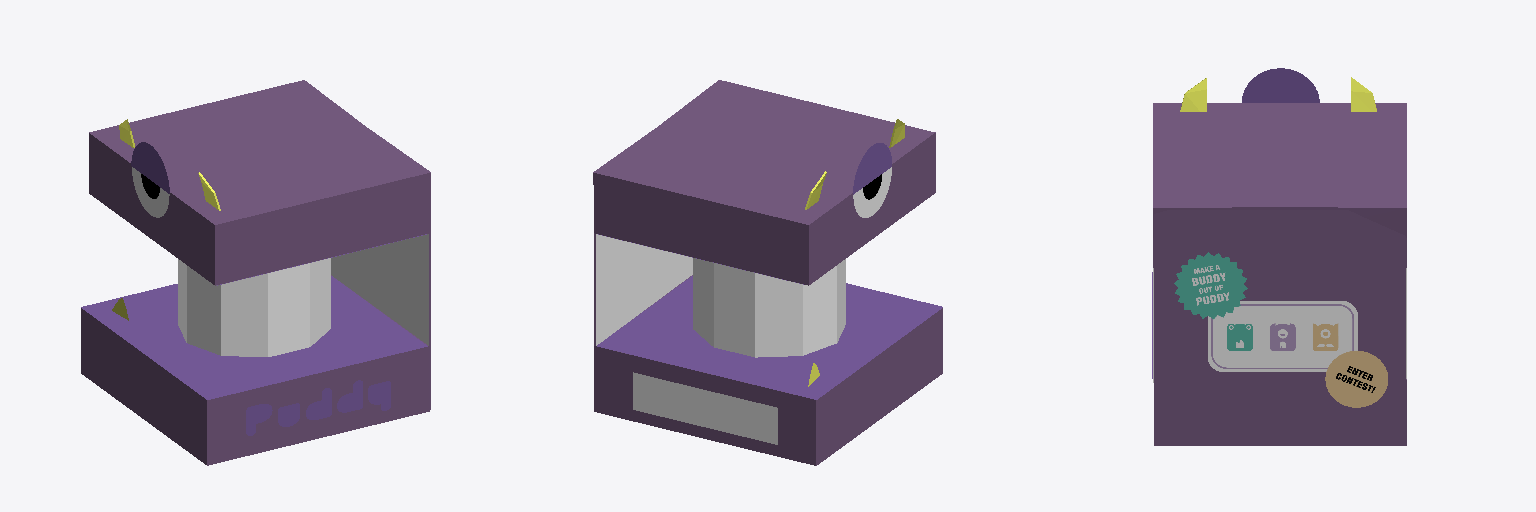
The picture shows the model from 3 angles: view 1: azimuth 30°, elevation 25°; view 2: azimuth 150°, elevation 25°; view 3: azimuth 270°, elevation 25°; orthographic projection.
Visible parts, largest first — view 1: 011_Box_-_baked, 014_Box_1, 001_Image_Plane_5, 010_Cylinder_-_baked, 002_Image_Plane_4, 013_Image_Plane_1, 009_Image_Plane, 006_Merged_Objects; view 2: 011_Box_-_baked, 014_Box_1, 001_Image_Plane_5, 010_Cylinder_-_baked, 002_Image_Plane_4, 012_Image_Plane_2, 009_Image_Plane, 006_Merged_Objects; view 3: 008_Box_6, 011_Box_-_baked, 003_Image_Plane_3, 009_Image_Plane, 006_Merged_Objects.
Part boxes in pixels (left/top/right/bottom): 011_Box_-_baked: left=89, top=80, right=430, bottom=285; 014_Box_1: left=81, top=275, right=429, bottom=465; 001_Image_Plane_5: left=81, top=276, right=427, bottom=399; 010_Cylinder_-_baked: left=178, top=258, right=330, bottom=356; 002_Image_Plane_4: left=331, top=234, right=428, bottom=345; 013_Image_Plane_1: left=246, top=380, right=390, bottom=435; 009_Image_Plane: left=131, top=142, right=169, bottom=217; 006_Merged_Objects: left=119, top=119, right=220, bottom=210; 011_Box_-_baked: left=593, top=80, right=935, bottom=285; 014_Box_1: left=594, top=275, right=942, bottom=465; 001_Image_Plane_5: left=597, top=276, right=942, bottom=399; 010_Cylinder_-_baked: left=693, top=258, right=845, bottom=357; 002_Image_Plane_4: left=596, top=234, right=692, bottom=345; 012_Image_Plane_2: left=633, top=372, right=777, bottom=444; 009_Image_Plane: left=853, top=143, right=891, bottom=217; 006_Merged_Objects: left=805, top=119, right=904, bottom=209; 008_Box_6: left=1154, top=210, right=1405, bottom=445; 011_Box_-_baked: left=1153, top=103, right=1406, bottom=267; 003_Image_Plane_3: left=1174, top=252, right=1387, bottom=407; 009_Image_Plane: left=1242, top=68, right=1319, bottom=102; 006_Merged_Objects: left=1180, top=77, right=1376, bottom=111.
Size of the model in its own units: 99.78 by 116 by 98.21.
13 materials, 5 textured.